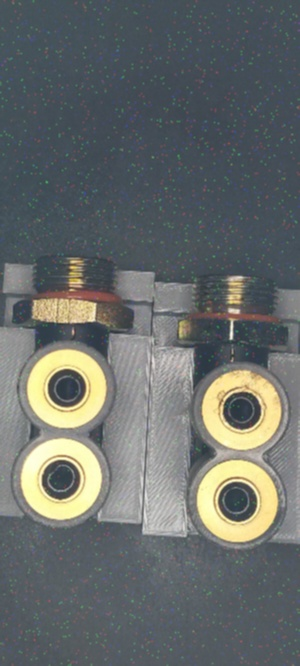craze: (226, 343, 238, 365), (67, 322, 80, 342)
off-centered: (43, 464, 80, 496)
